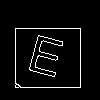E: (25, 25, 70, 78)
